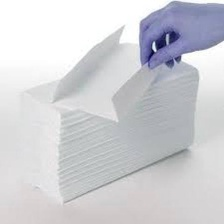tissue: (11, 19, 207, 209)
